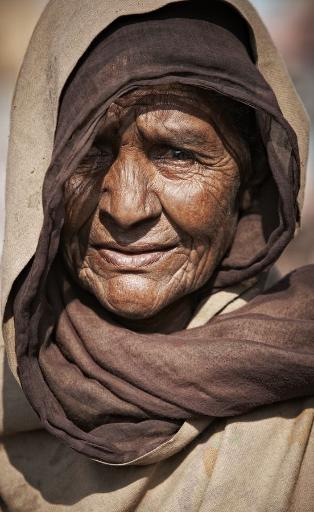left_eye: (156, 143, 201, 167)
left_lip_corner: (161, 243, 185, 260)
right_lip_corner: (87, 238, 99, 258)
